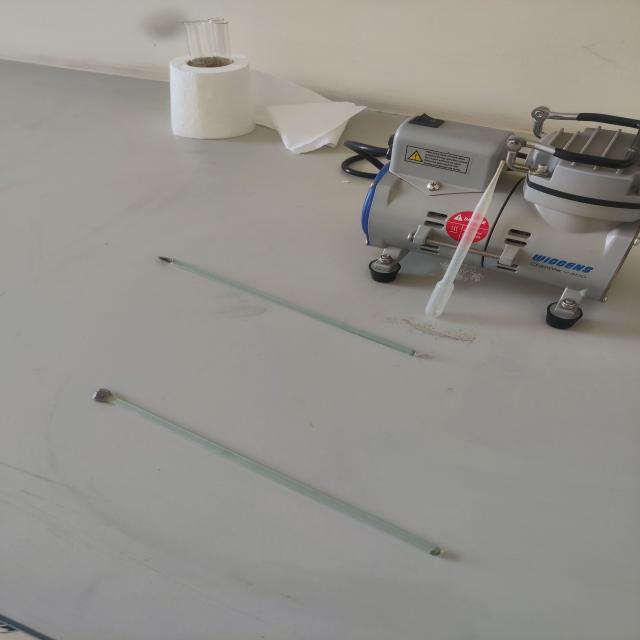Glass_Rod: (56, 362, 473, 582), (122, 227, 435, 376)
Pipette: (418, 143, 526, 339)
